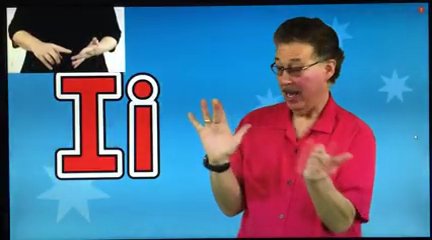I: (30, 32, 109, 71)
